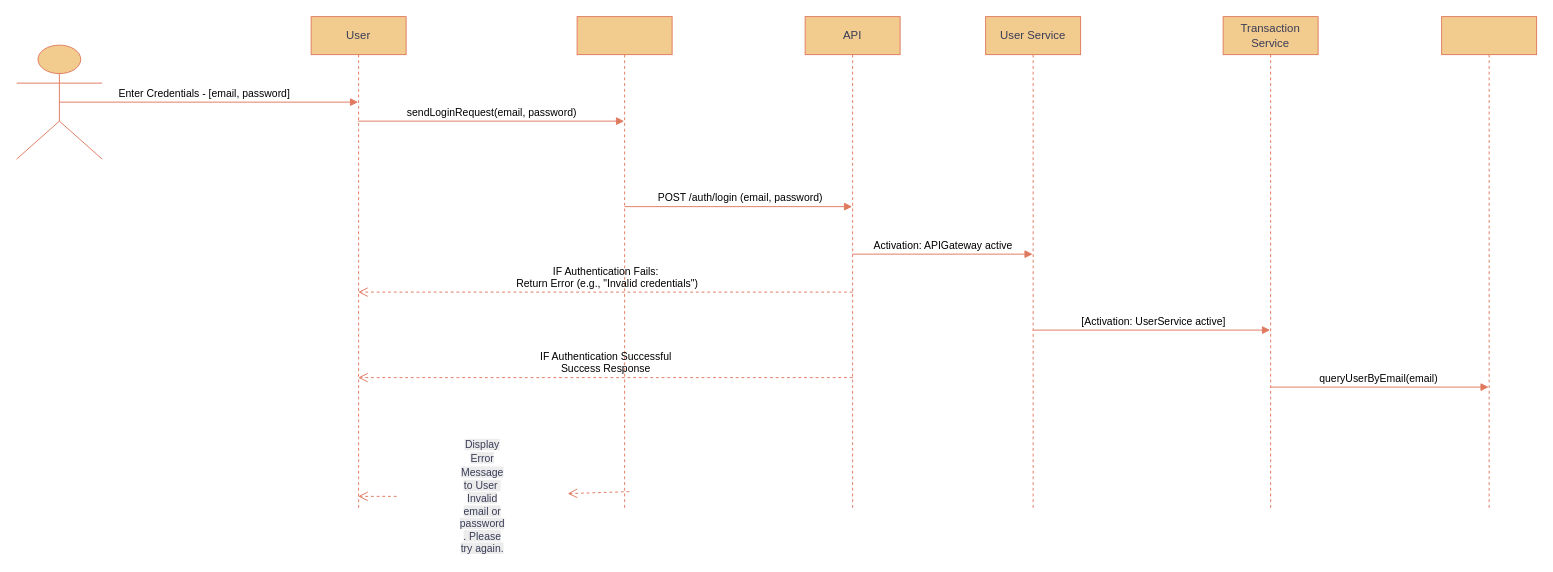
Some shapes in this 1553 by 572 pixel diagram are drawn without their labels. Each missing label, with the box of its shape:
Account Service: (1441, 16, 1537, 511)
UI: (576, 16, 672, 511)
